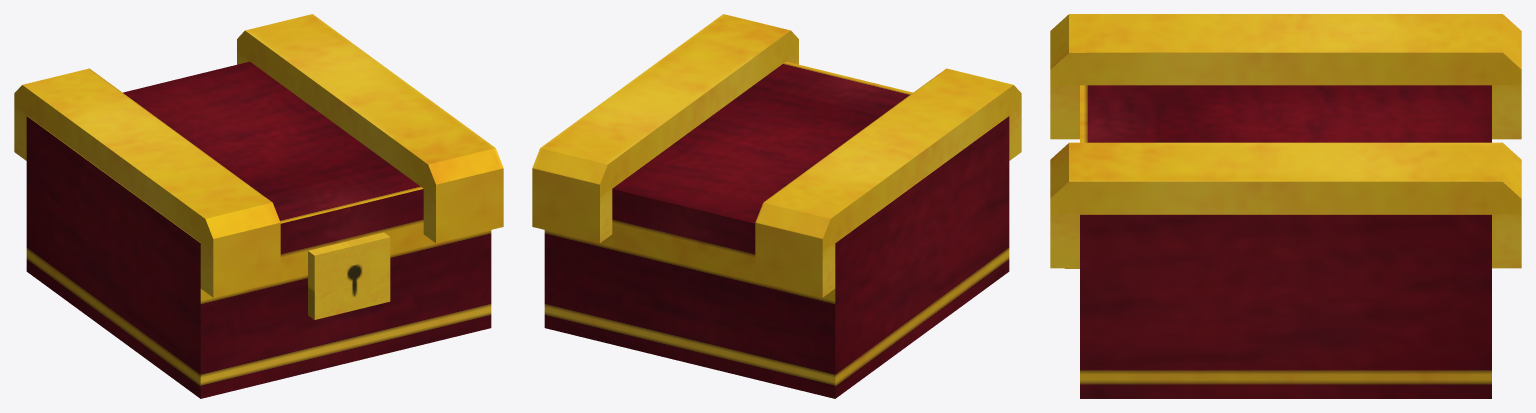
Rendered from storage2.FBX.
3 views of the same model, side by side, from view 1: azimuth 30°, elevation 25°; view 2: azimuth 150°, elevation 25°; view 3: azimuth 270°, elevation 25° (orthographic). The views are drawn at different scales.
Parts seen in each view (by area): view 1: storage2; view 2: storage2; view 3: storage2.
Boxes of the visible parts, box(x1,y1,x2,y2) form: storage2: box(14, 14, 503, 398); storage2: box(532, 14, 1021, 398); storage2: box(1050, 14, 1521, 398).
Size of the model in its own units: 133 by 80.51 by 158.
